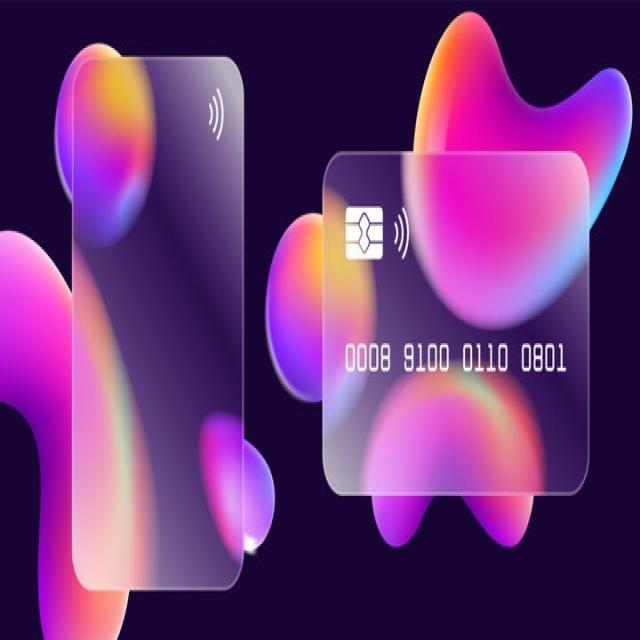payment_card: (320, 147, 592, 498)
